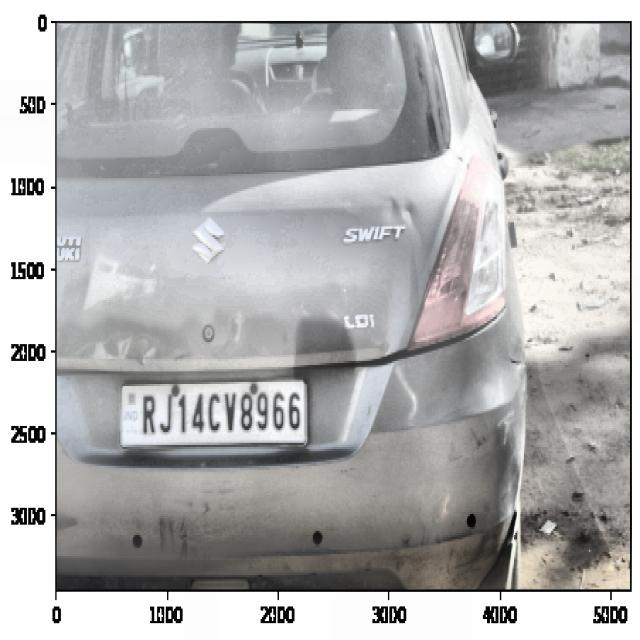license_plate: (137, 384, 306, 445)
